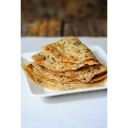dosa: (27, 38, 106, 87)
